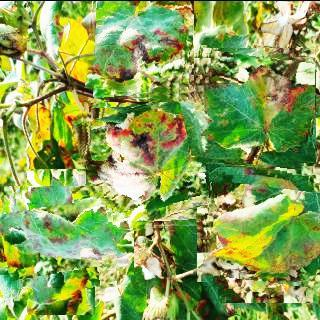blight: (78, 101, 210, 232), (189, 47, 315, 172), (203, 174, 320, 295), (4, 185, 118, 297), (89, 0, 194, 102)
